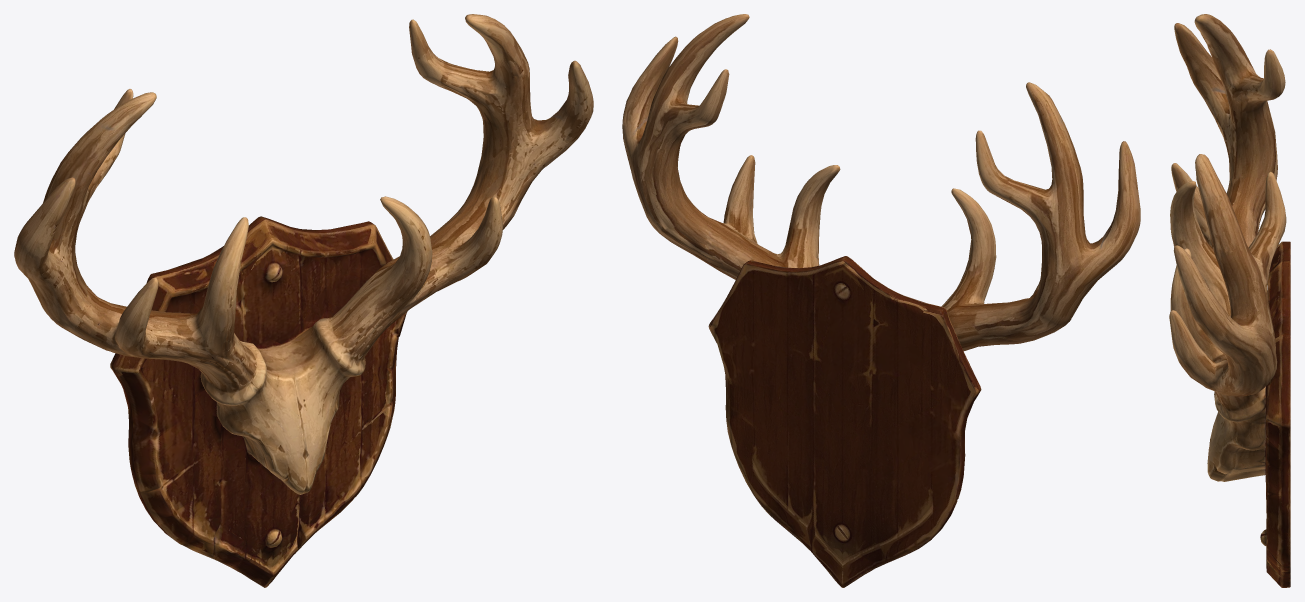
File: d_antlers.glb
3 views of the same model, side by side, from view 1: azimuth 30°, elevation 25°; view 2: azimuth 150°, elevation 25°; view 3: azimuth 270°, elevation 25° (orthographic). The views are drawn at different scales.
Size of the model in its own units: 1.9 by 1.81 by 0.3965.
1 material, 1 textured.
